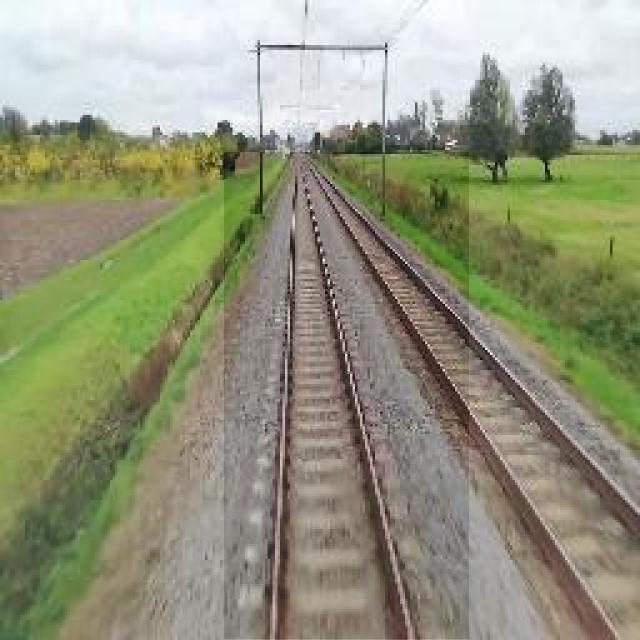rail: (225, 154, 470, 640)
